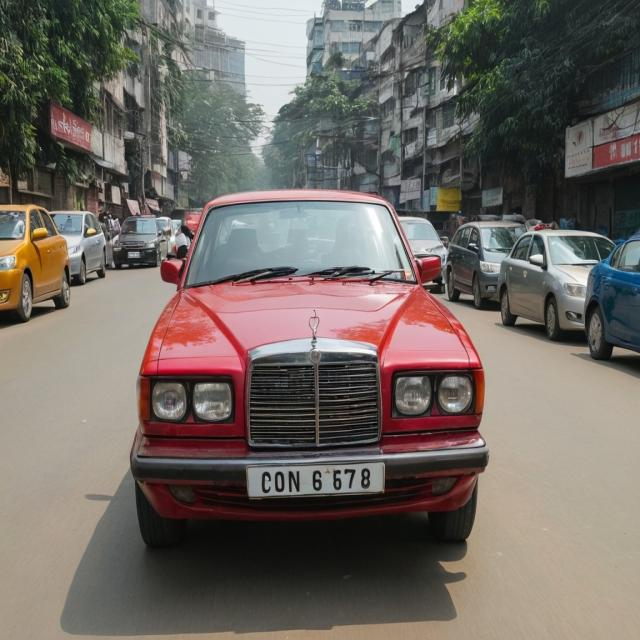black: (442, 217, 526, 309), (114, 216, 164, 270)
blue: (588, 235, 640, 371)
red: (127, 181, 485, 563)
silver: (502, 224, 600, 347), (42, 205, 110, 282)
